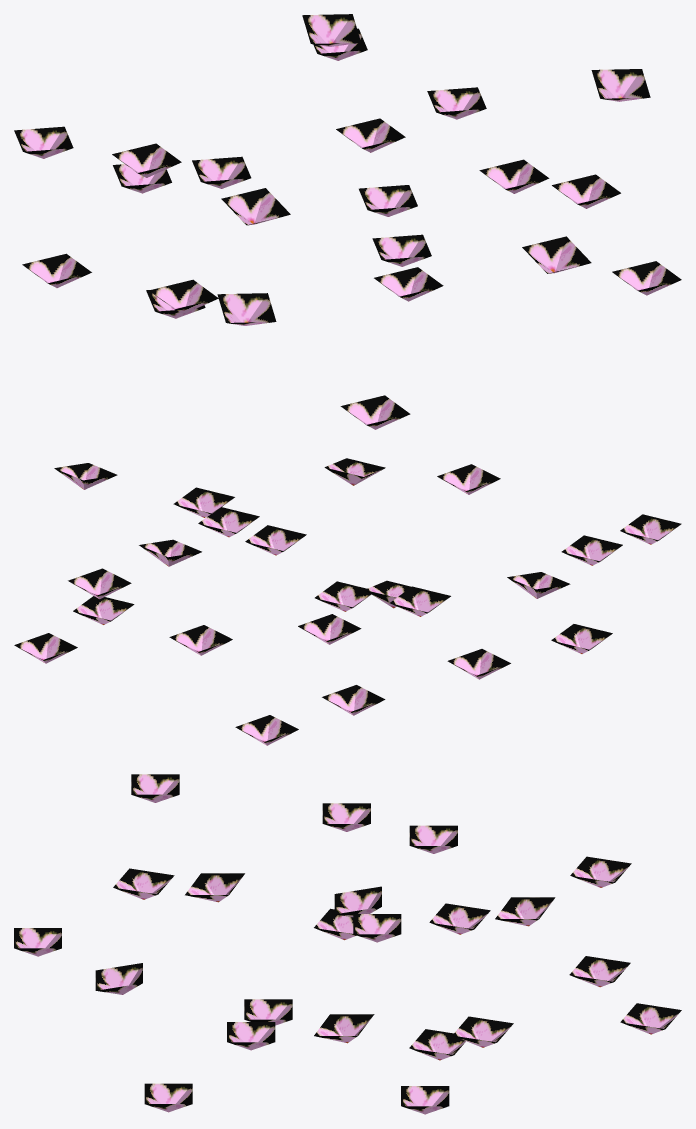
The model's file is xiaohua1.fbx.
3 views of the same model, one above another, from view 1: azimuth 30°, elevation 25°; view 2: azimuth 150°, elevation 25°; view 3: azimuth 270°, elevation 25° (orthographic). The views are drawn at different scales.
Parts seen in each view (by area): view 1: xiaohua1; view 2: xiaohua1; view 3: xiaohua1.
Part boxes in pixels (x1,y1,x2,y2): xiaohua1: [14, 14, 681, 429]; xiaohua1: [14, 458, 681, 745]; xiaohua1: [14, 774, 681, 1114].
Size of the model in its own units: 390 by 98.92 by 394.
1 material, 1 textured.
